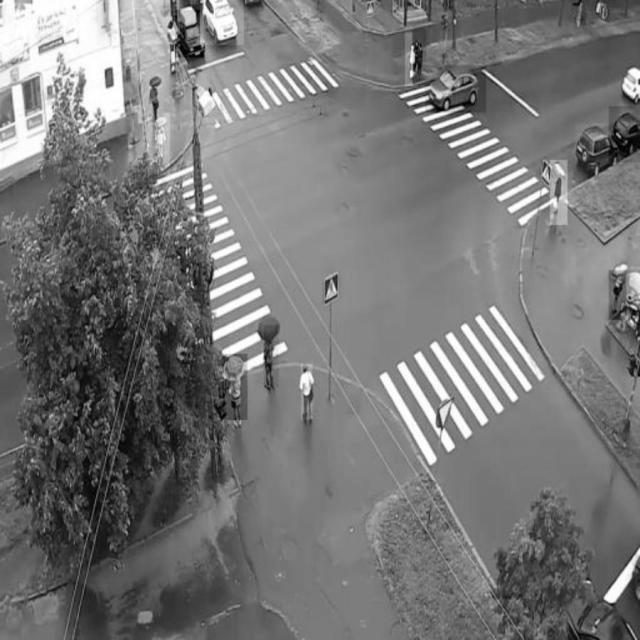person: (222, 354, 248, 420), (148, 113, 170, 175), (551, 161, 568, 225), (264, 326, 279, 388), (609, 270, 626, 321), (413, 25, 427, 85), (149, 77, 164, 124), (302, 364, 312, 420), (405, 32, 415, 86)
vehicle: (426, 66, 487, 113), (575, 124, 617, 180), (200, 1, 244, 46), (609, 107, 639, 163), (175, 10, 205, 57)
